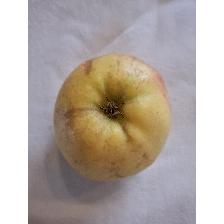Apfel: (51, 50, 175, 182)
